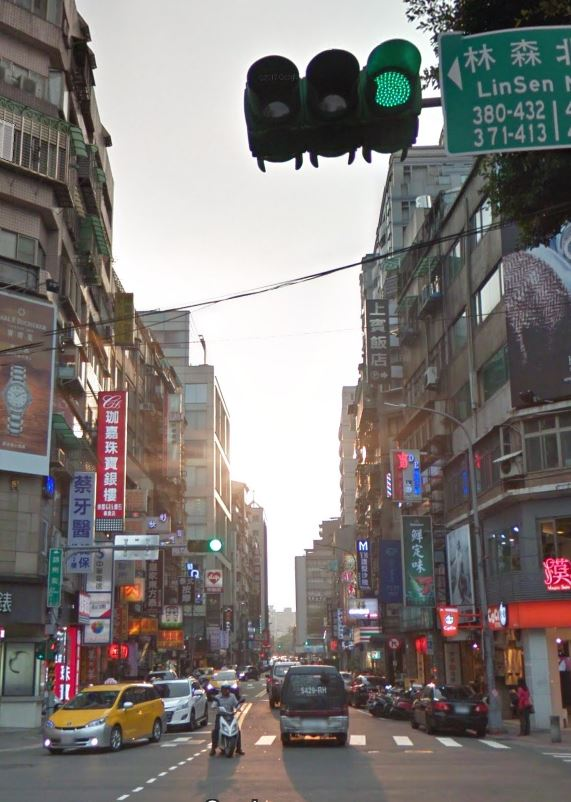Traffic_light_green: (237, 38, 429, 175), (187, 538, 221, 554)
car: (40, 674, 170, 754)
motorcycle: (207, 694, 245, 759)
